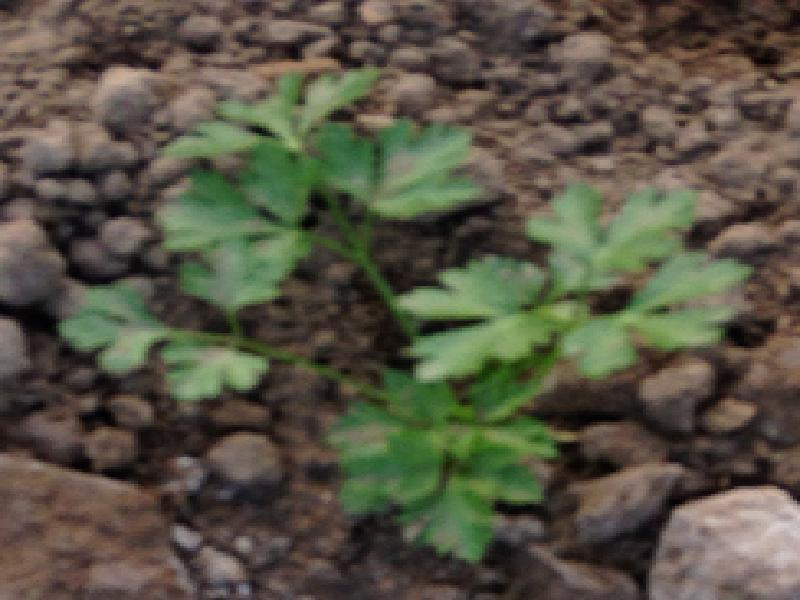radish: (97, 42, 710, 550)
